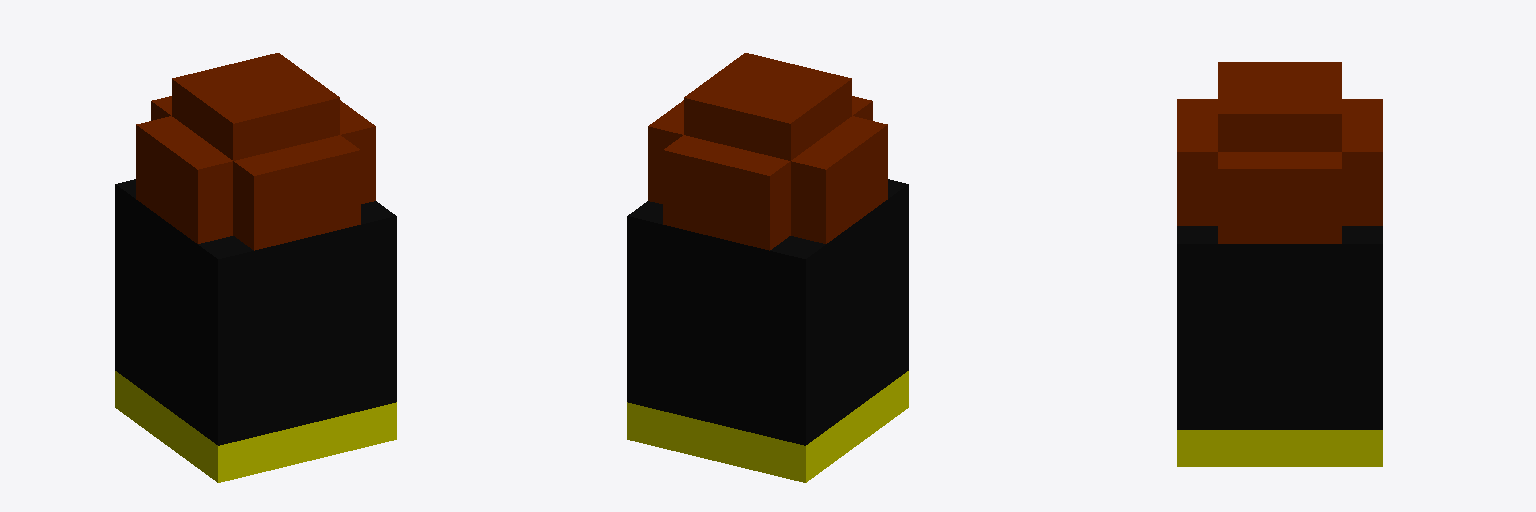
The picture shows the model from 3 angles: view 1: azimuth 30°, elevation 25°; view 2: azimuth 150°, elevation 25°; view 3: azimuth 270°, elevation 25°; orthographic projection.
Parts seen in each view (by area): view 1: object 1; view 2: object 1; view 3: object 1.
Boxes of the visible parts, x1=… form: object 1: x1=115, y1=53, x2=396, y2=482; object 1: x1=627, y1=53, x2=908, y2=482; object 1: x1=1177, y1=62, x2=1382, y2=466.
Bounding box in the file's own units: 0.5 × 0.9 × 0.5.
1 materials, 1 textured.